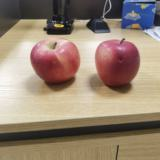apple: (94, 38, 141, 88), (30, 39, 81, 85)
